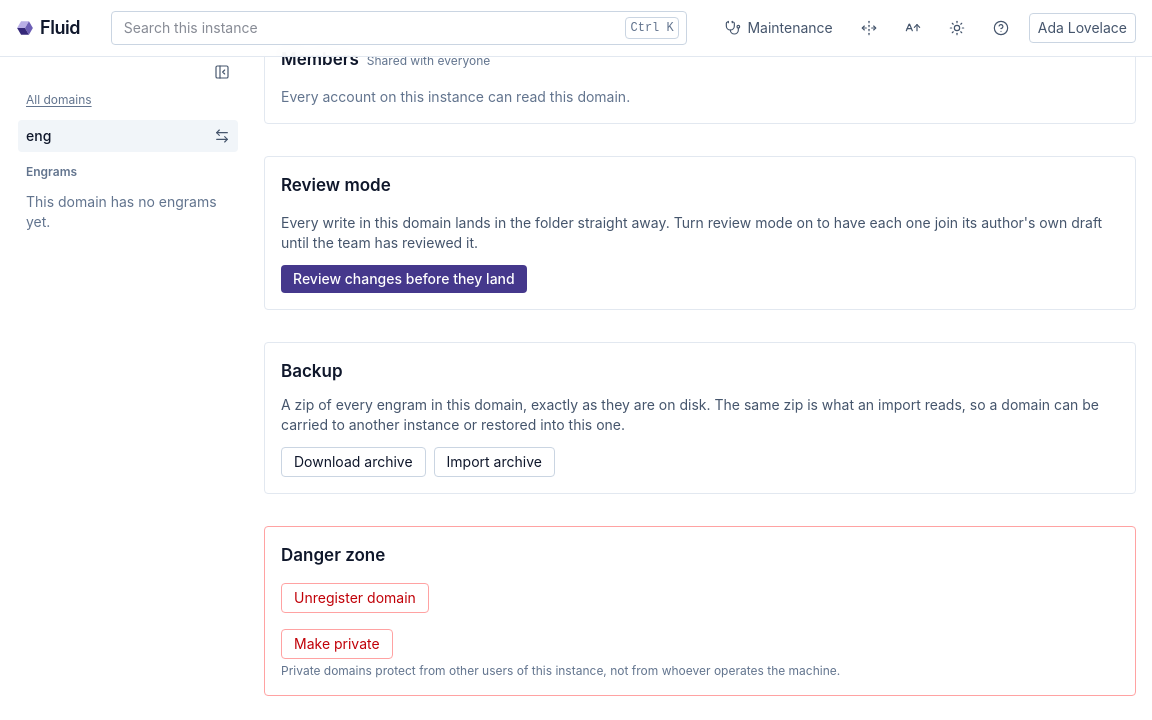
Test: the backup card › opens the import dialog from its own button
The image size is (1152, 720).
(page scrolled)
Click the button "Import archive" at (494, 462), box [434,447,555,477]
(page scrolled)
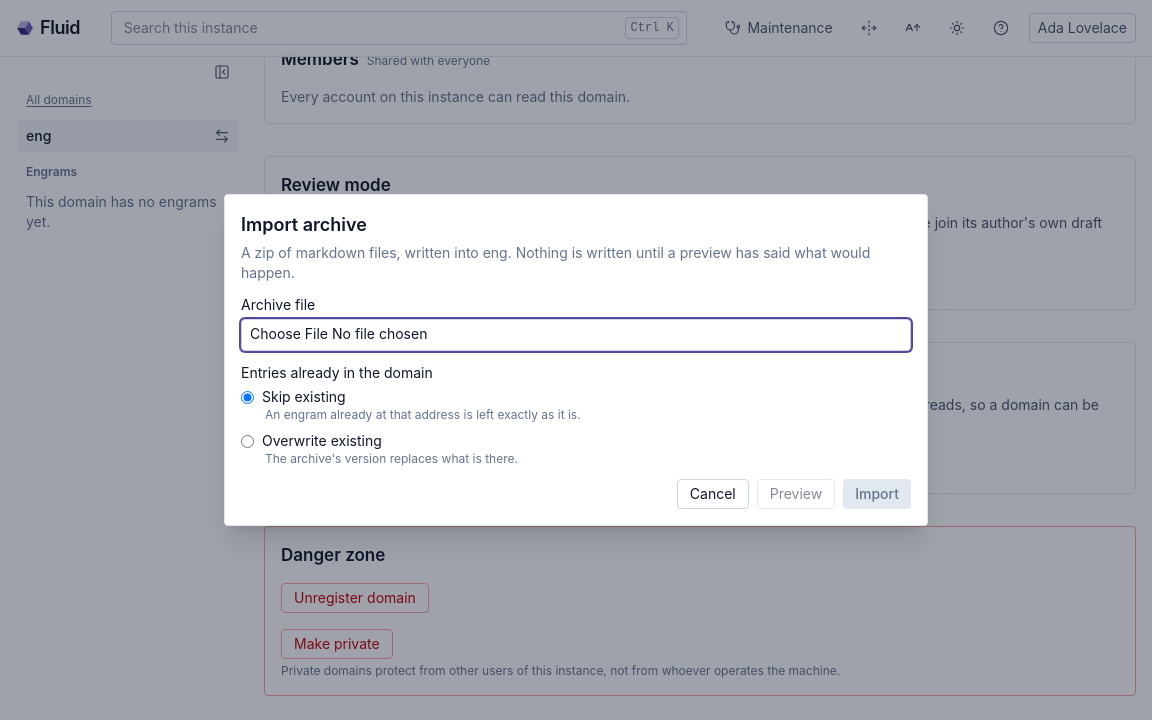
Expected: the dialog "Import" is shown, [224,194,928,526]
